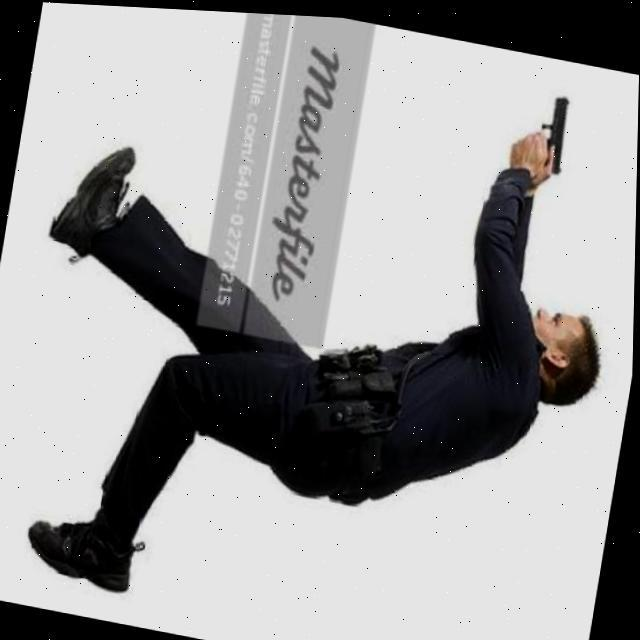gun: (502, 80, 578, 191)
